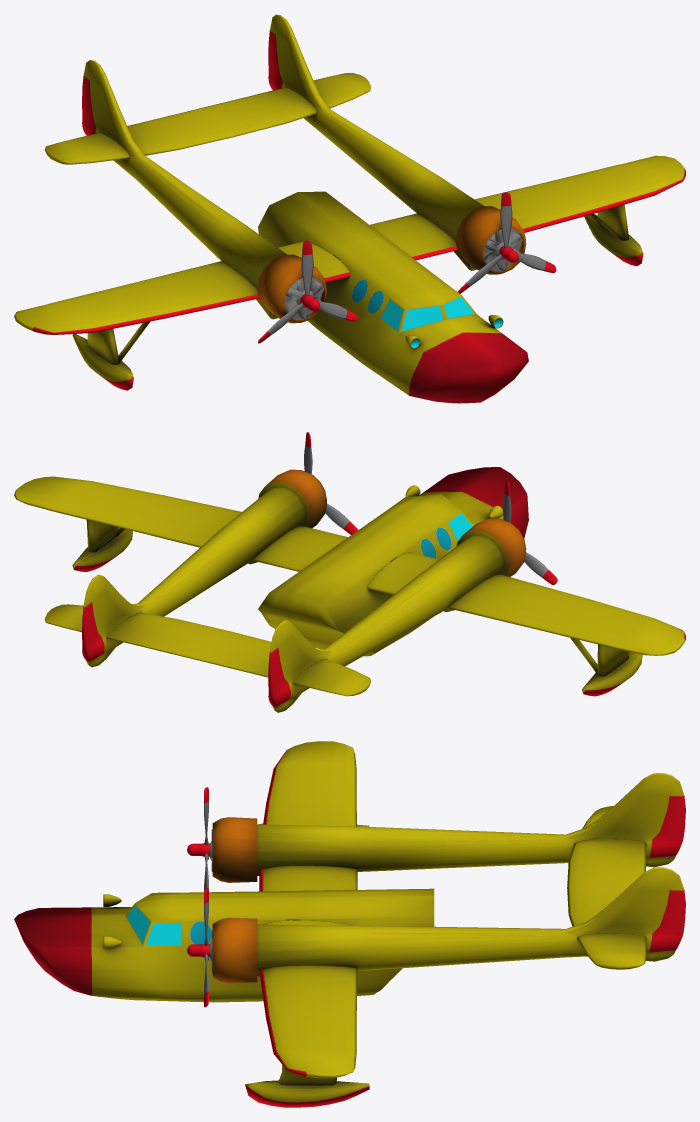
3 renders of one model, top to bottom at view 1: azimuth 30°, elevation 25°; view 2: azimuth 150°, elevation 25°; view 3: azimuth 270°, elevation 25°, orthographic. The views are drawn at different scales.
Visible parts, largest first — view 1: propeler, propeler.003, propeler.004, propeler.002, propeler.001; view 2: propeler, propeler.003, propeler.002, propeler.001; view 3: propeler, propeler.003, propeler.001, propeler.002.
Part boxes in pixels (x1=…): propeler: x1=14, y1=73, x2=685, y2=403; propeler.003: x1=82, y1=14, x2=526, y2=323; propeler.004: x1=284, y1=228, x2=522, y2=319; propeler.002: x1=258, y1=240, x2=357, y2=343; propeler.001: x1=457, y1=192, x2=556, y2=293; propeler: x1=14, y1=467, x2=685, y2=696; propeler.003: x1=82, y1=469, x2=526, y2=712; propeler.002: x1=502, y1=480, x2=557, y2=584; propeler.001: x1=304, y1=432, x2=358, y2=534; propeler: x1=14, y1=741, x2=646, y2=1107; propeler.003: x1=212, y1=773, x2=685, y2=983; propeler.001: x1=187, y1=888, x2=210, y2=1007; propeler.002: x1=187, y1=787, x2=209, y2=890.
Size of the model in its own units: 2.78 by 0.6626 by 2.36.
6 materials, 3 textured.
